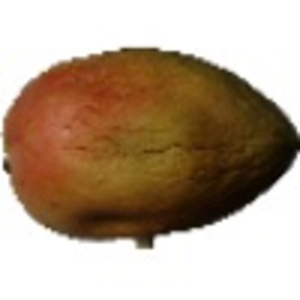mamão: (6, 40, 296, 241)
